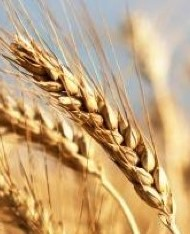Healthy Wheat: (3, 26, 177, 192)
